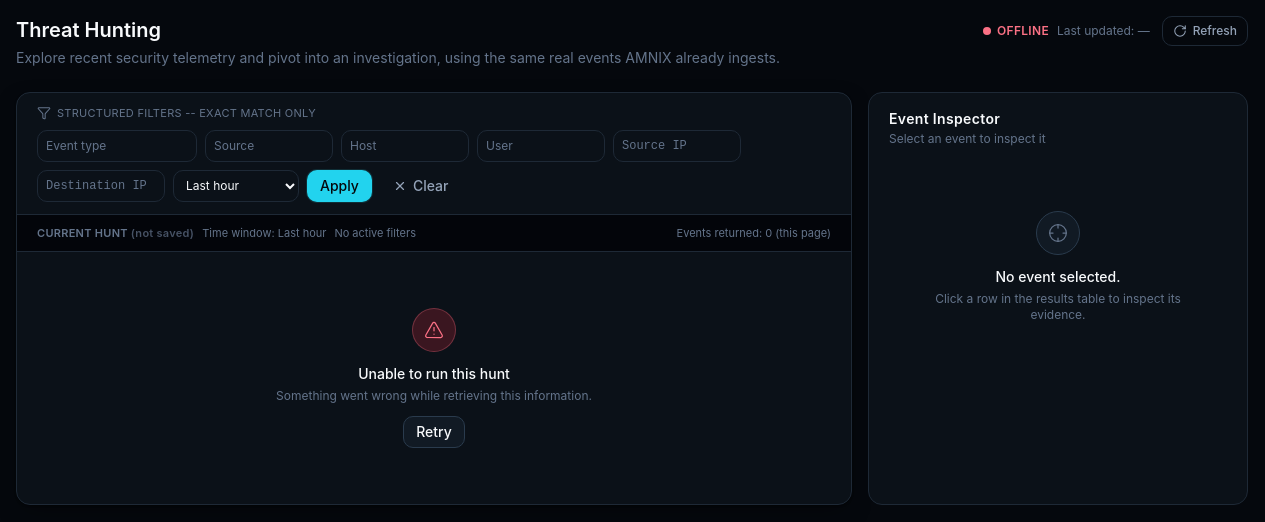
ThreatHuntingPage: loading / empty / error states › shows a safe error state with retry, never a raw exception
Expected: the text "Unable to run this hunt" is shown, [358,365,510,382]
Click the button "Retry": (434, 432) [403,416,465,448]
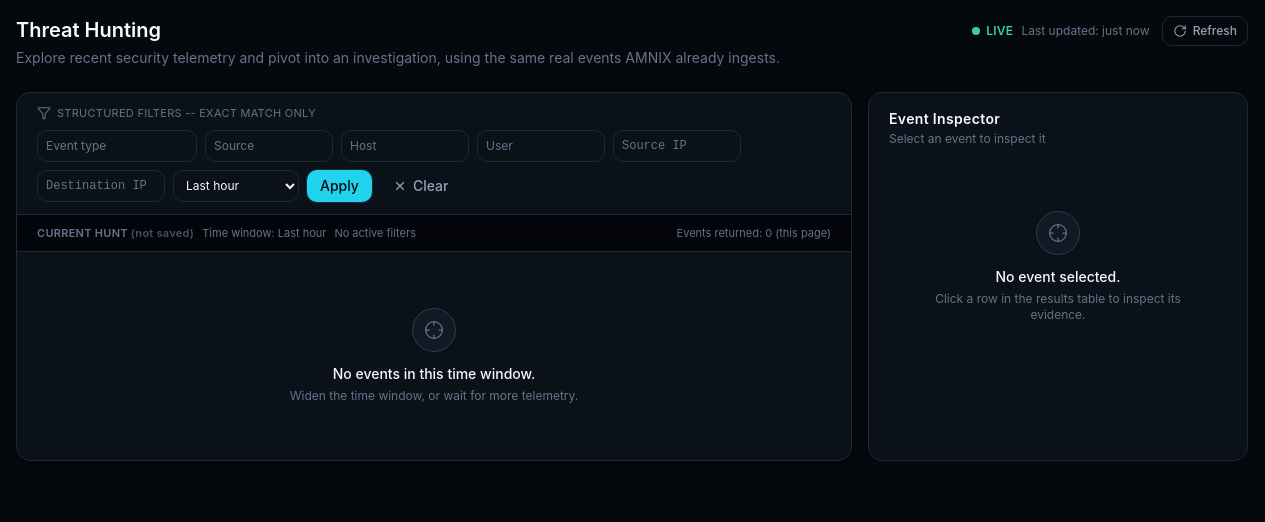
Now the text "No events in this time window." is shown, box [333,365,535,382]
